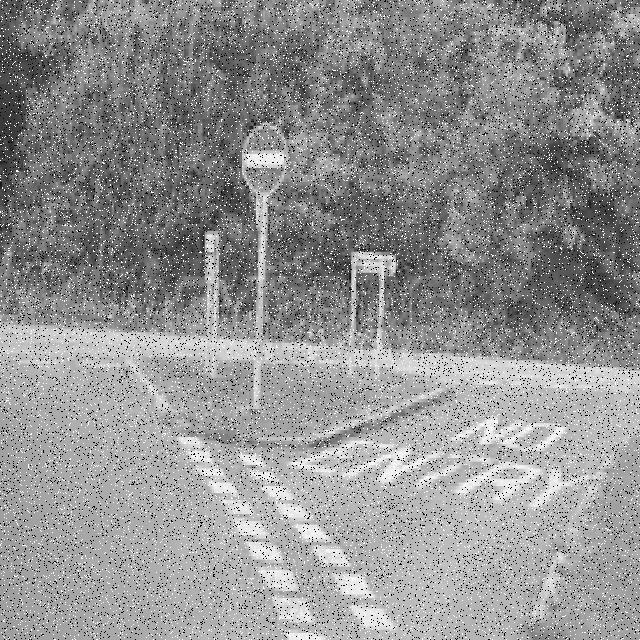no entry: (242, 122, 284, 192)
